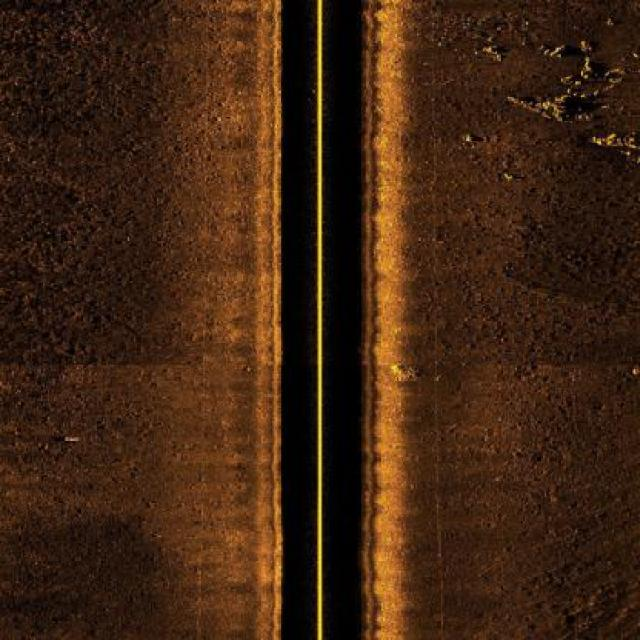mine: (44, 432, 79, 445)
